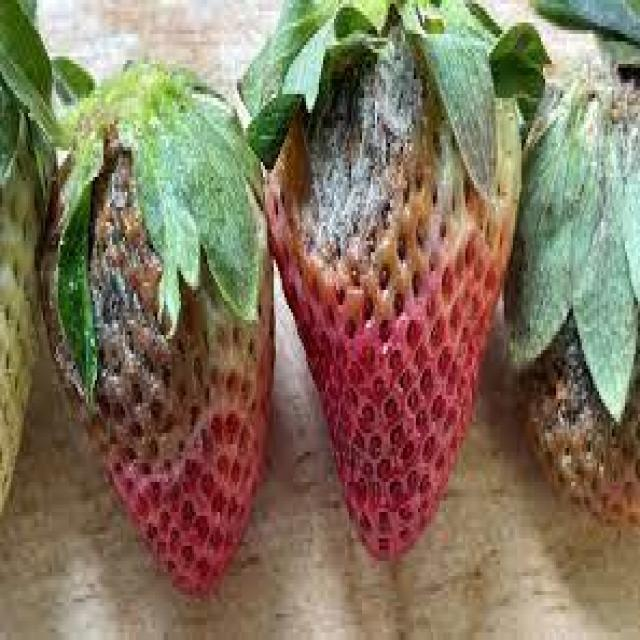Podredumbre de cuero: (260, 9, 508, 568), (48, 116, 268, 575)
